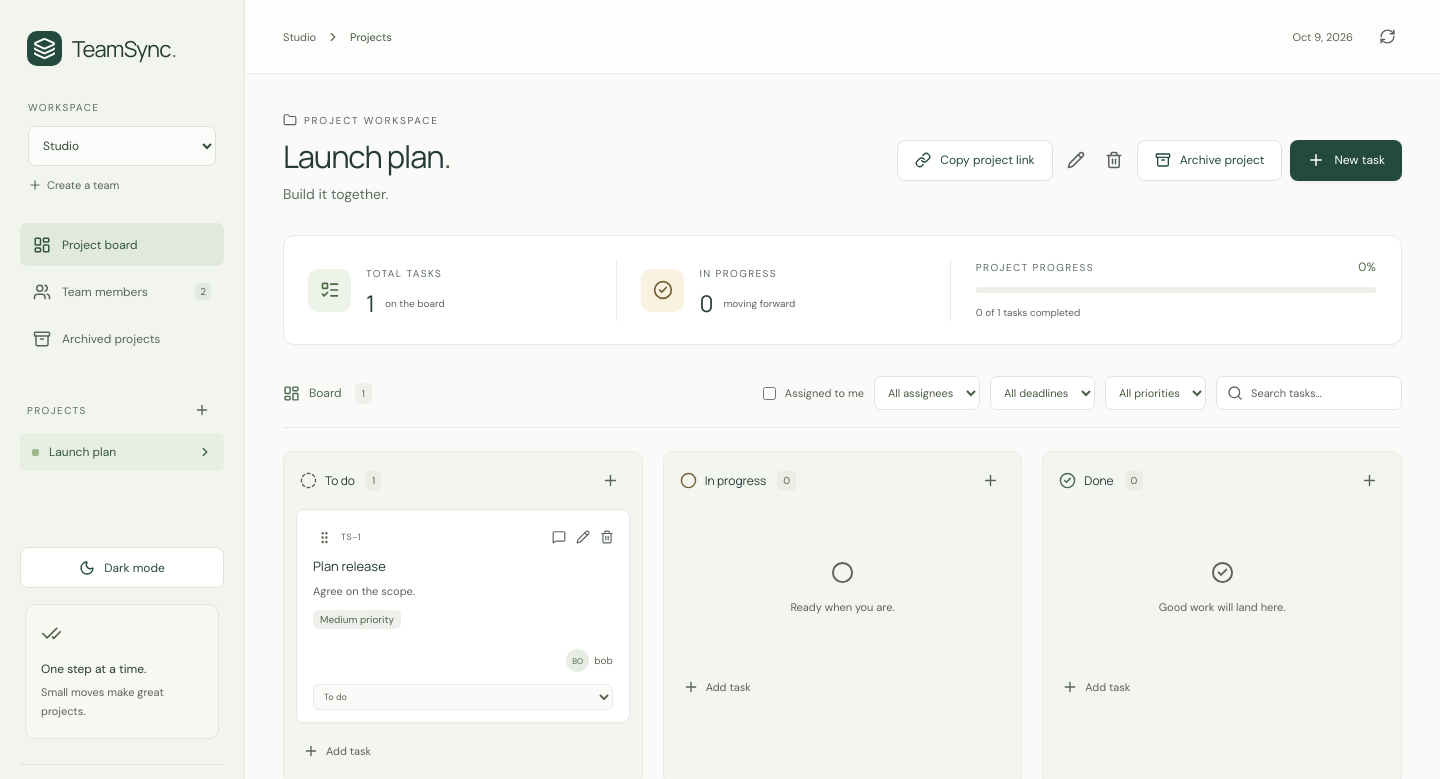
Scenario: edits a task priority and filters the saved result
Expected: the heading "Launch plan." is shown, 283,136 -> 450,176
Click the button named "Edit Plan release" at (583, 537), box 571,525 -> 595,549
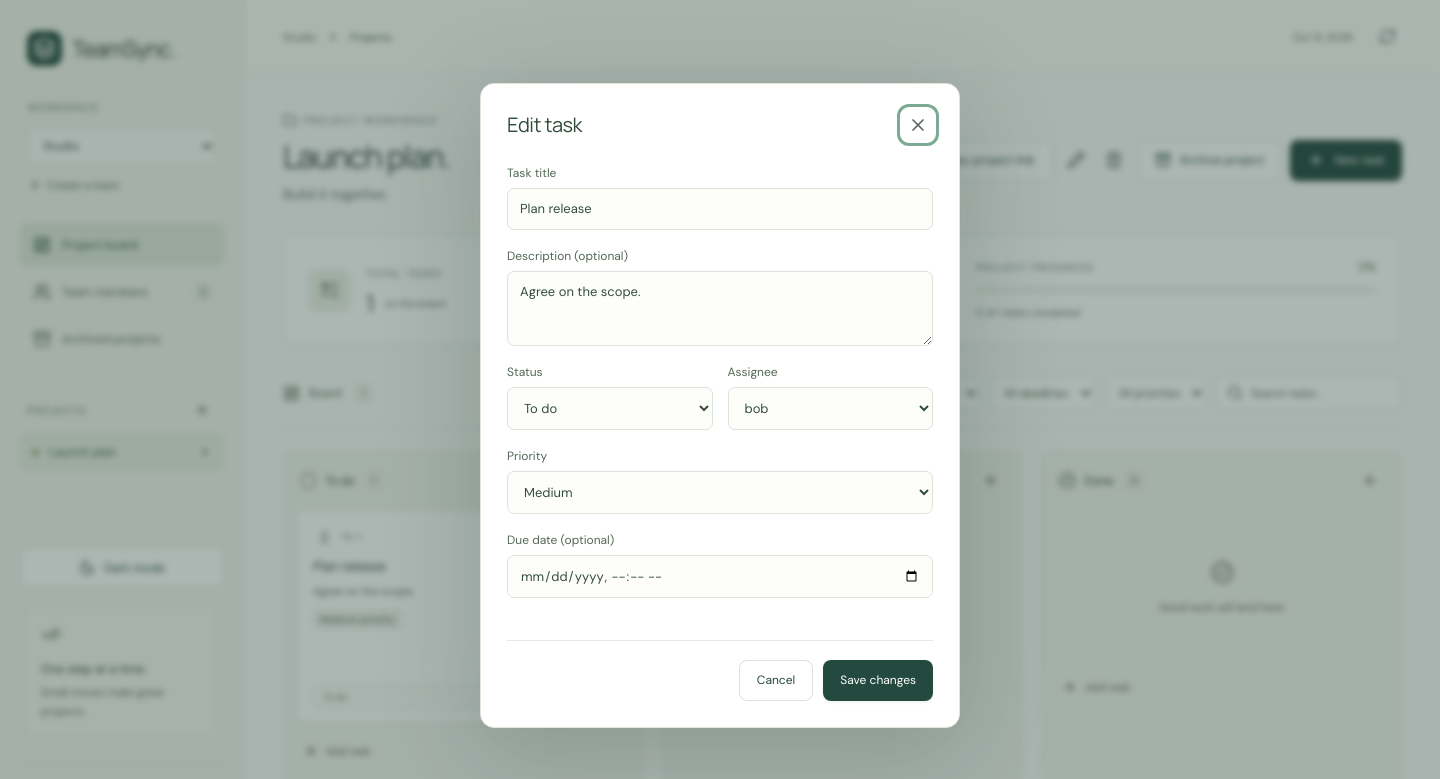
Select "Low" in the dropdown labelled "Priority" at (720, 492), box 507,470 -> 933,514
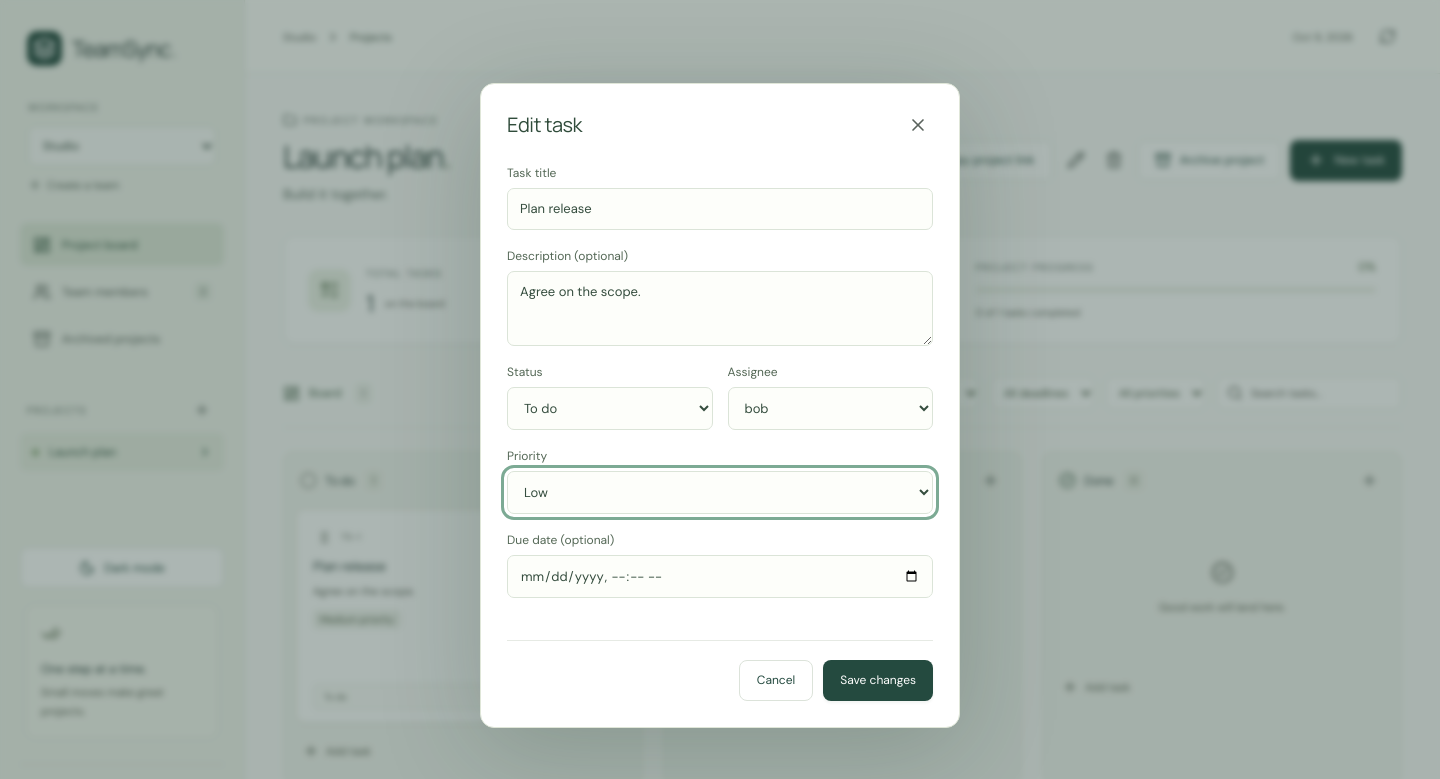
Click the button "Save changes" at (878, 680), box 823,660 -> 933,700
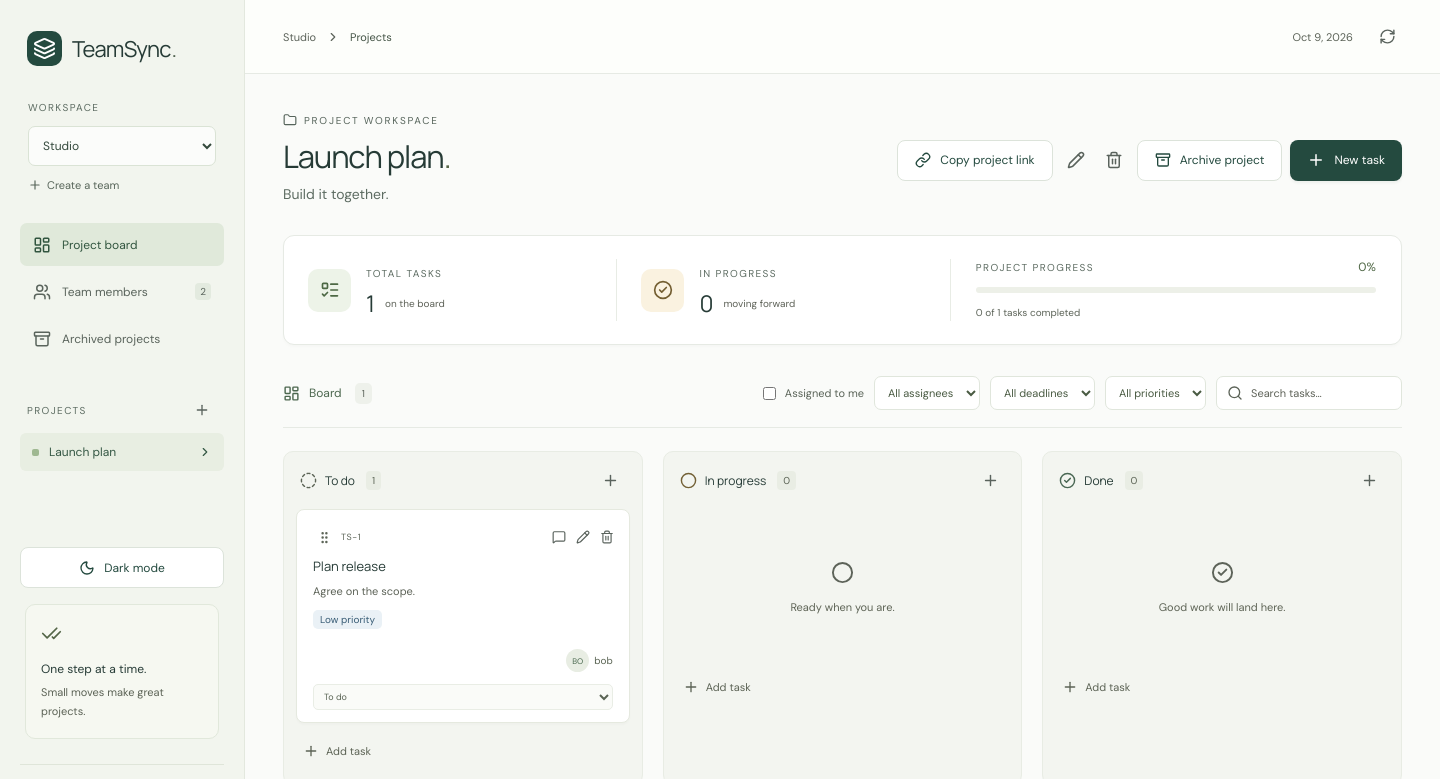
Expected: the text "Low priority" is shown, 313,610 -> 382,629
Select "High" in the dropdown named "Filter by priority" at (1156, 393), box 1105,376 -> 1206,410
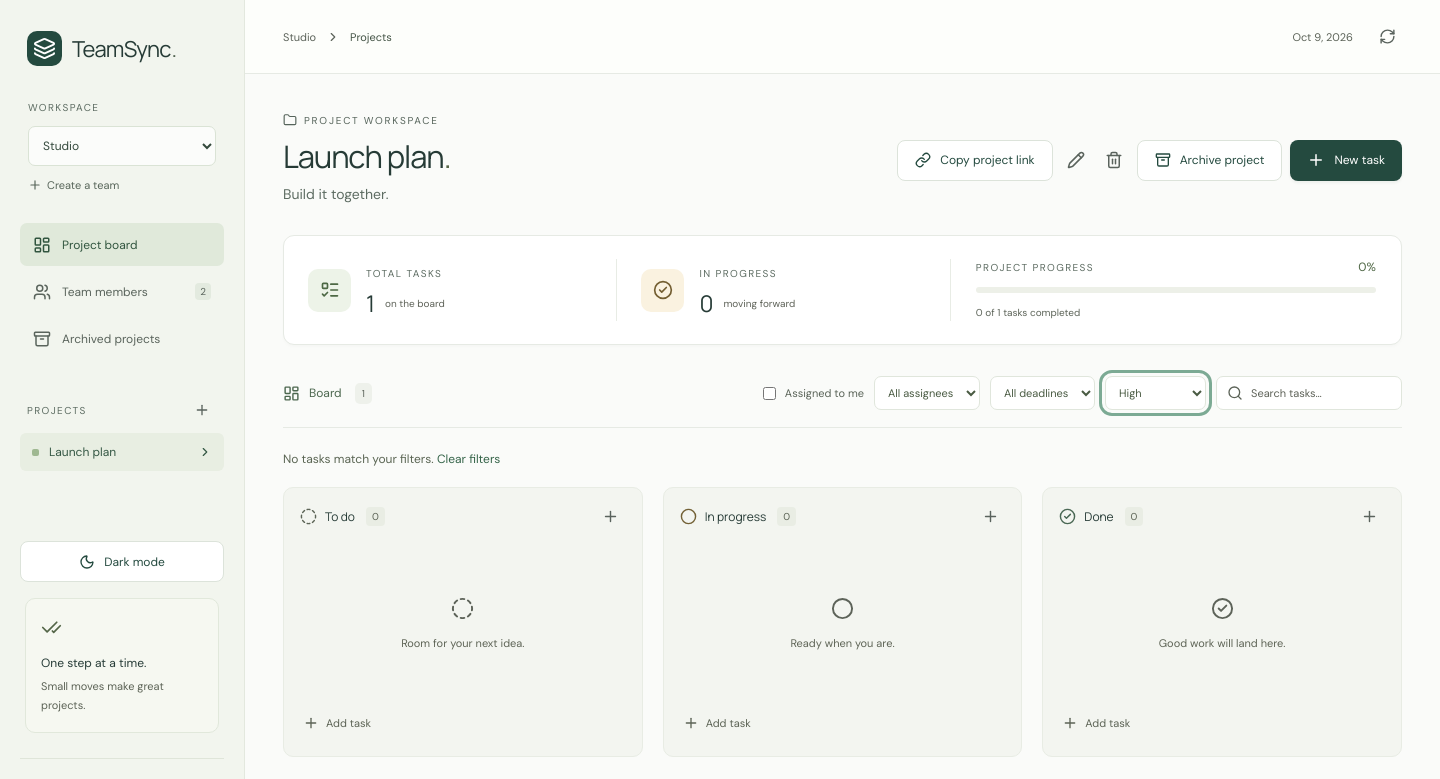
Expected: the heading "Plan release" is gone
Click the button "Clear filters" at (469, 459), box 437,451 -> 500,467
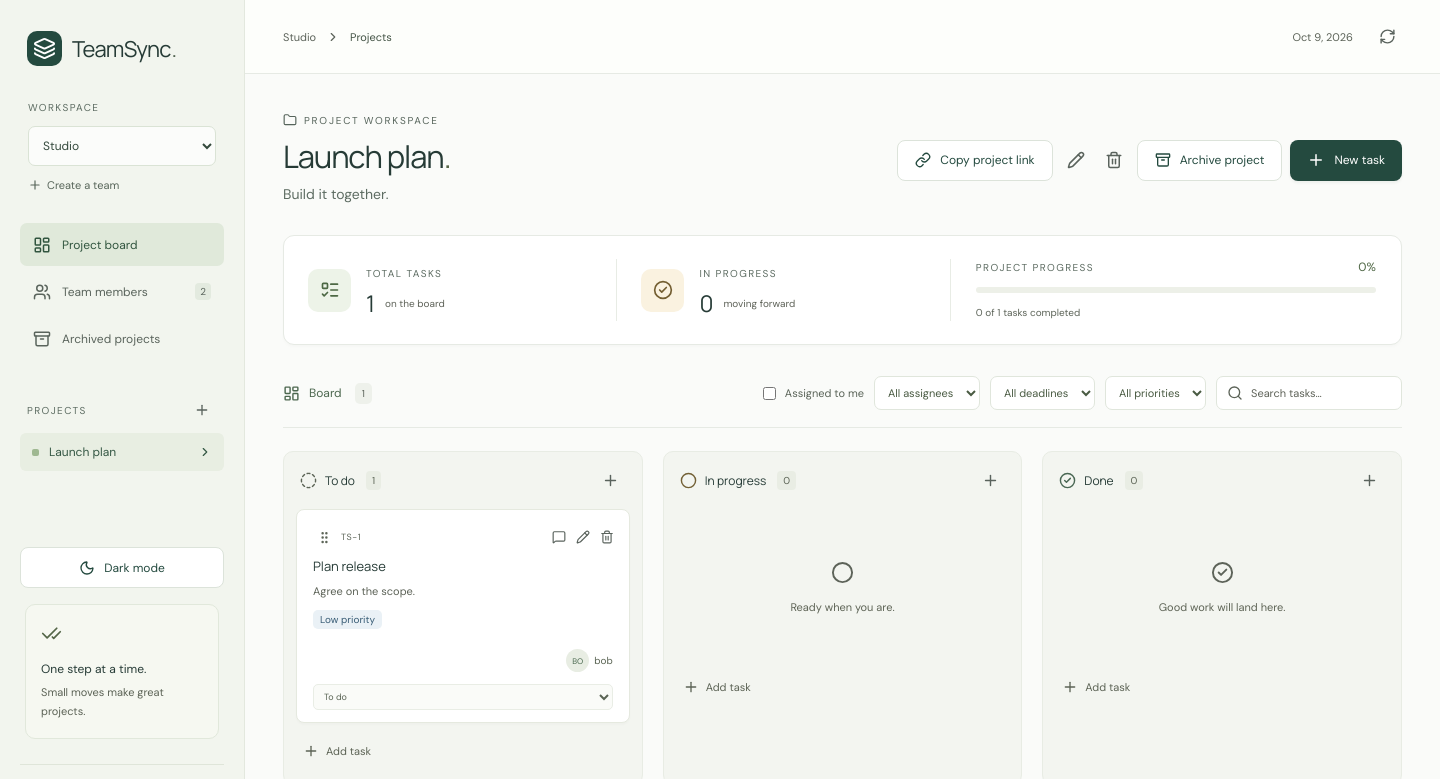
Expected: the heading "Plan release" is shown, 313,557 -> 386,575
